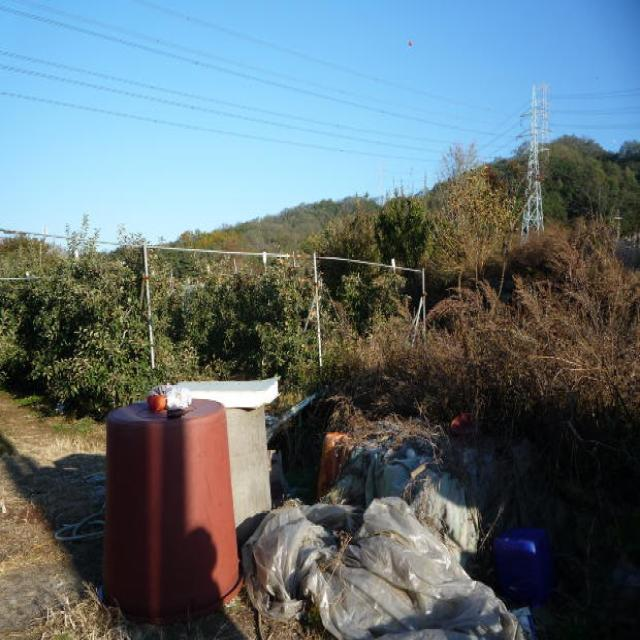trash: (126, 382, 518, 614)
